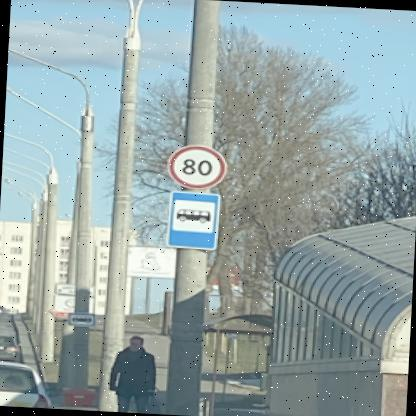speedlimit: (164, 142, 226, 189)
